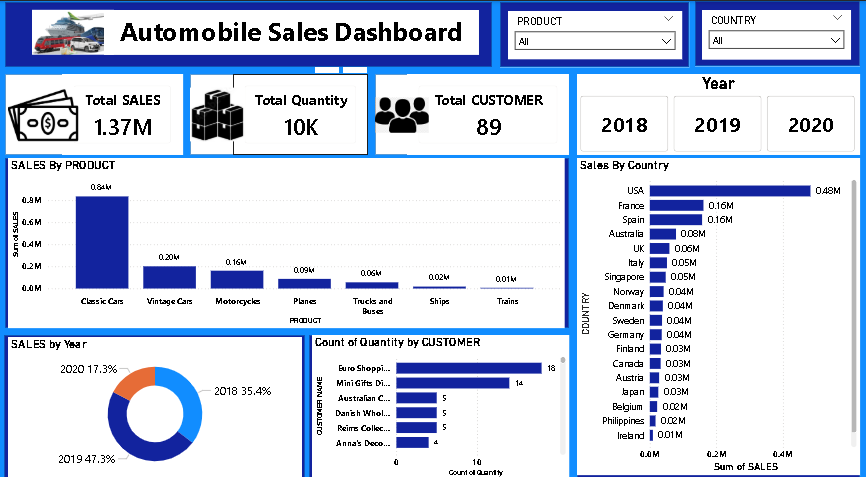

The dashboard page shown, as its layout file describes it:
{"tool":"powerbi","page":{"name":"Page 1","canvas":[1280,720],"ordinal":0},"visuals":[{"type":"shape","box":[7.3,107.3,261.6,119],"z":0},{"type":"cardVisual","fields":{"Data":["Sum(Sales.SALES)"]},"box":[91.1,107.3,177.8,119],"z":1000},{"type":"image","box":[11.8,107.3,105.8,119],"z":2000},{"type":"shape","box":[279.2,107.3,261.6,119],"z":3000},{"type":"cardVisual","fields":{"Data":["Sum(Sales.Quantity)"]},"box":[342.4,107.3,198.4,119],"z":4000},{"type":"image","box":[279.2,107.3,80.8,119],"z":5000},{"type":"shape","box":[7.3,230.7,828.7,249.8],"z":6000},{"type":"shape","box":[734.7,1.5,277.7,95.5],"z":7000},{"type":"shape","box":[1021.2,0,242.4,95.5],"z":8000},{"type":"shape","box":[847.8,230.7,415.8,473.1],"z":9000},{"type":"barChart","title":"Sales By Country","fields":{"Category":["Customer Details.COUNTRY"],"Y":["Sum(Sales.SALES)"]},"box":[847.8,230.7,415.8,465.8],"z":10000},{"type":"columnChart","title":"SALES By PRODUCT","fields":{"Y":["Sum(Sales.SALES)"],"Category":["Customer Details.PRODUCT"]},"box":[11.8,230.7,818.4,249.8],"z":11000},{"type":"shape","box":[5.9,490.8,442.3,213.1],"z":12000},{"type":"donutChart","title":"SALES by Year","fields":{"Category":["Sales.Year.Variation.Date Hierarchy.Year"],"Y":["Sum(Sales.SALES)"]},"box":[11.8,493.7,432,207.2],"z":13000},{"type":"slicer","fields":{"Values":["Customer Details.PRODUCT"]},"box":[746.4,14.7,255.7,70.5],"z":14000},{"type":"slicer","fields":{"Values":["Customer Details.COUNTRY"]},"box":[1031.5,13.2,218.9,73.5],"z":15000},{"type":"shape","box":[551,107.3,264.5,119],"z":16000},{"type":"cardVisual","fields":{"Data":["Count(Customer Details.CUSTOMER NAME)"]},"box":[598,107.3,238,119],"z":17000},{"type":"shape","box":[7.3,1.5,715.6,95.5],"z":18000},{"type":"image","box":[47,2.9,120.5,86.7],"z":19000},{"type":"textbox","box":[152.8,13.2,551,66.1],"z":20000},{"type":"image","box":[551,114.6,79.3,105.8],"z":21000},{"type":"shape","box":[454,490.8,382,213.1],"z":22000},{"type":"barChart","title":"Count of Quantity by CUSTOMER","fields":{"Category":["Customer Details.CUSTOMER NAME"],"Y":["Count(Sales.Quantity)"]},"box":[458.4,490.8,377.6,213.1],"z":23000},{"type":"advancedSlicerVisual","fields":{"Values":["Sales.Year"]},"box":[847.8,107.3,415.8,119],"z":24000}]}

Visuals, with their boxes in screenshot pixels (x1, y1, x2, y2), scaled from the page's 1280x720 canvas onto the 866x477 screenshot:
shape: rect(5, 71, 182, 150)
cardVisual - Sum(Sales.SALES): rect(62, 71, 182, 150)
image: rect(8, 71, 80, 150)
shape: rect(189, 71, 366, 150)
cardVisual - Sum(Sales.Quantity): rect(232, 71, 366, 150)
image: rect(189, 71, 244, 150)
shape: rect(5, 153, 566, 318)
shape: rect(497, 1, 685, 64)
shape: rect(691, 0, 855, 63)
shape: rect(574, 153, 855, 466)
"Sales By Country" barChart: rect(574, 153, 855, 461)
"SALES By PRODUCT" columnChart: rect(8, 153, 562, 318)
shape: rect(4, 325, 303, 466)
"SALES by Year" donutChart: rect(8, 327, 300, 464)
slicer - Customer Details.PRODUCT: rect(505, 10, 678, 56)
slicer - Customer Details.COUNTRY: rect(698, 9, 846, 57)
shape: rect(373, 71, 552, 150)
cardVisual - Count(Customer Details.CUSTOMER NAME): rect(405, 71, 566, 150)
shape: rect(5, 1, 489, 64)
image: rect(32, 2, 113, 59)
textbox: rect(103, 9, 476, 53)
image: rect(373, 76, 426, 146)
shape: rect(307, 325, 566, 466)
"Count of Quantity by CUSTOMER" barChart: rect(310, 325, 566, 466)
advancedSlicerVisual - Sales.Year: rect(574, 71, 855, 150)
